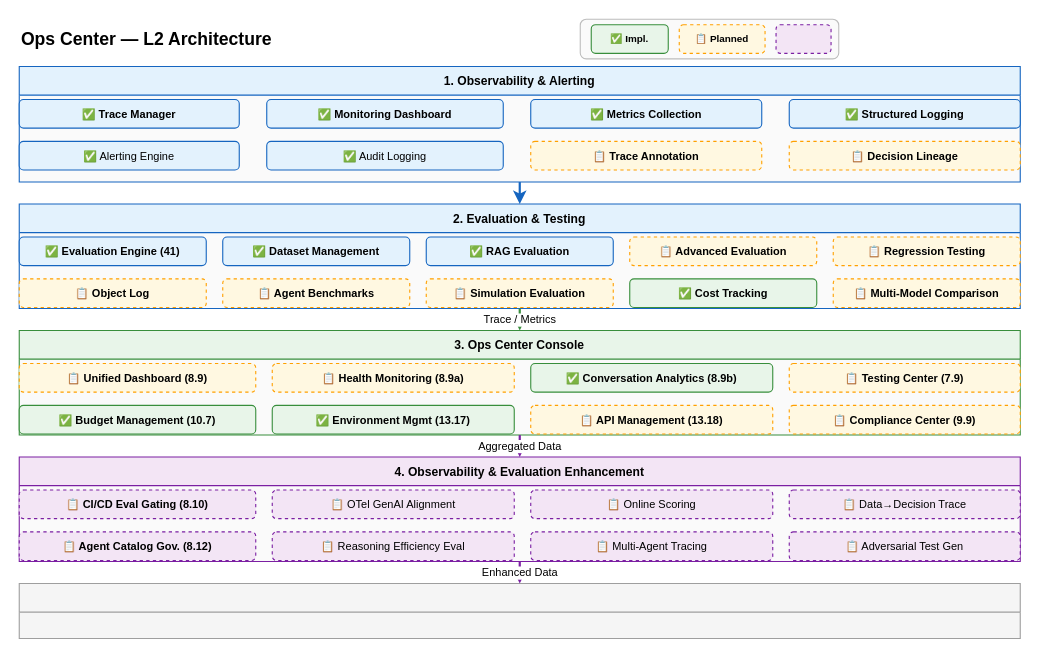
The diagram is 1040 pixels wide and 658 high, and some of its shapes have lost their labels. The centre of each missing label's shape, as x and y in pixels:
"⤵ To Observability Backend — Trace / Evaluation / Metrics via EnginePort" belongs at pixel 519 610.
"📋 OE Enhancement" belongs at pixel 803 38.
